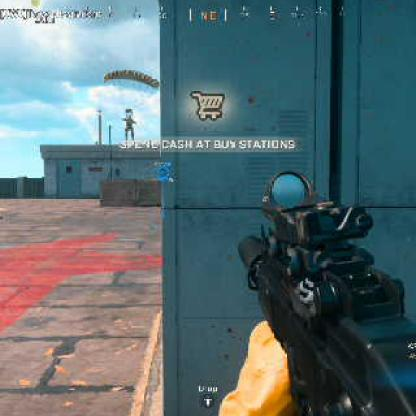enemy: (124, 113, 136, 144)
